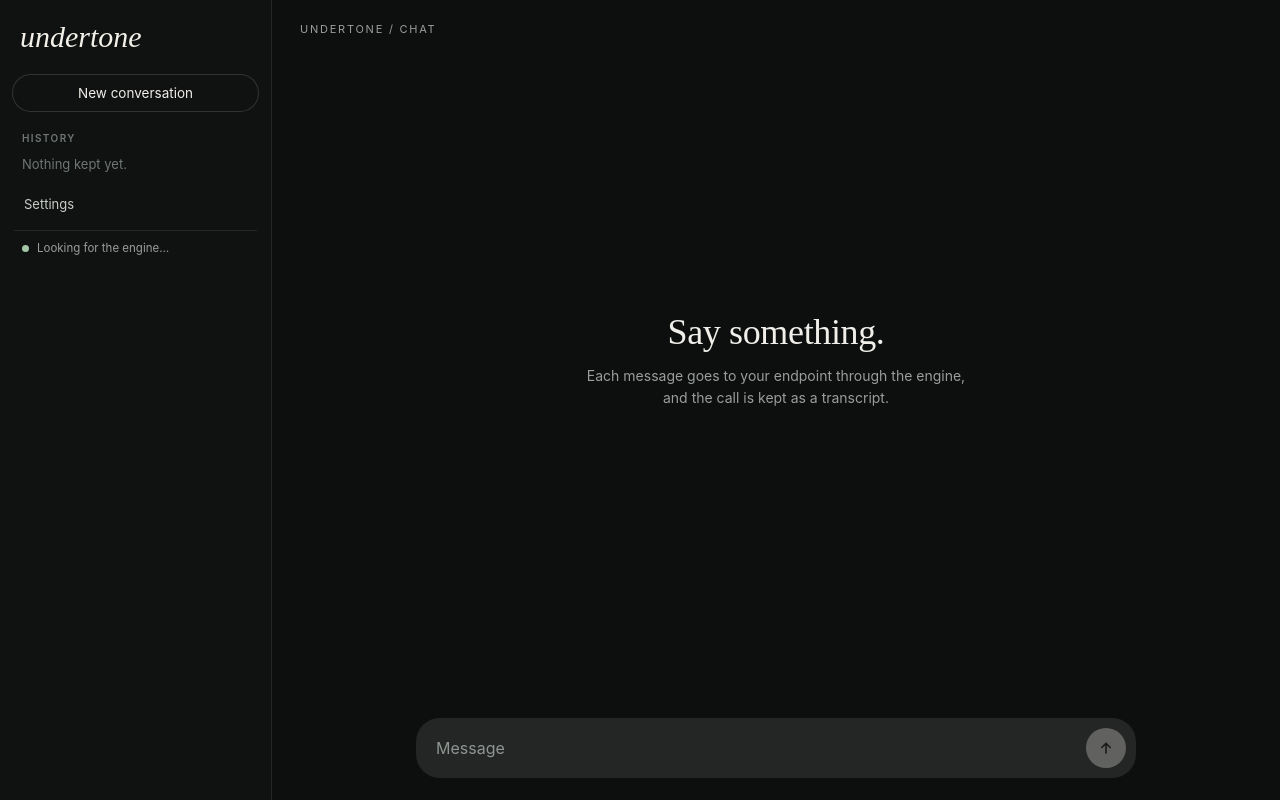
Test case: the settings page › says when the key is held back from an endpoint
Step 1. Click the button "Settings" → (136, 204), box [14,188,257,220]
(page scrolled)
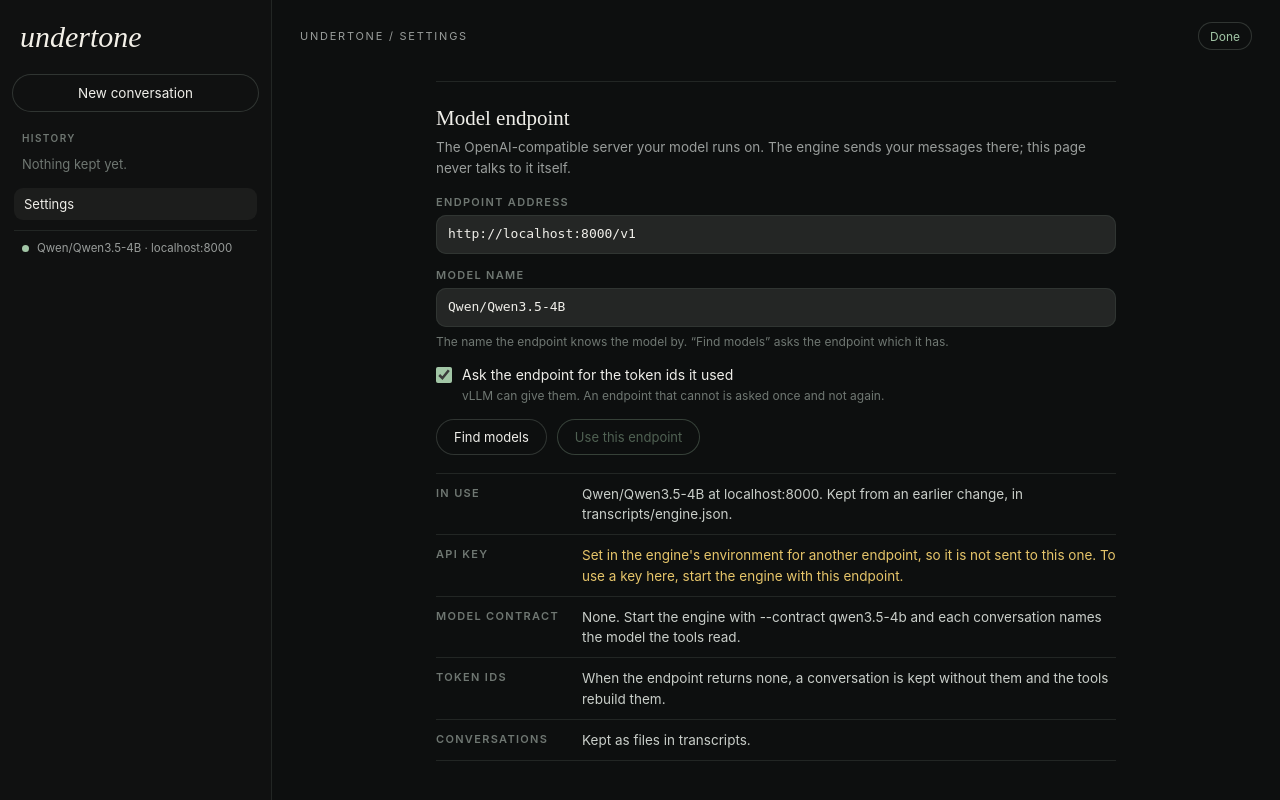
expect the text "for another endpoint, so it is not sent to this one" is shown: met, box [582,547,1116,584]
expect the element "Model endpoint" shows "Kept from an earlier change, in transcripts/engine.json.": met, box [582,486,1023,522]
